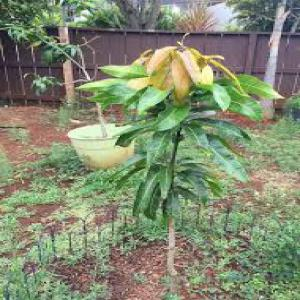Tree: (76, 42, 281, 292)
